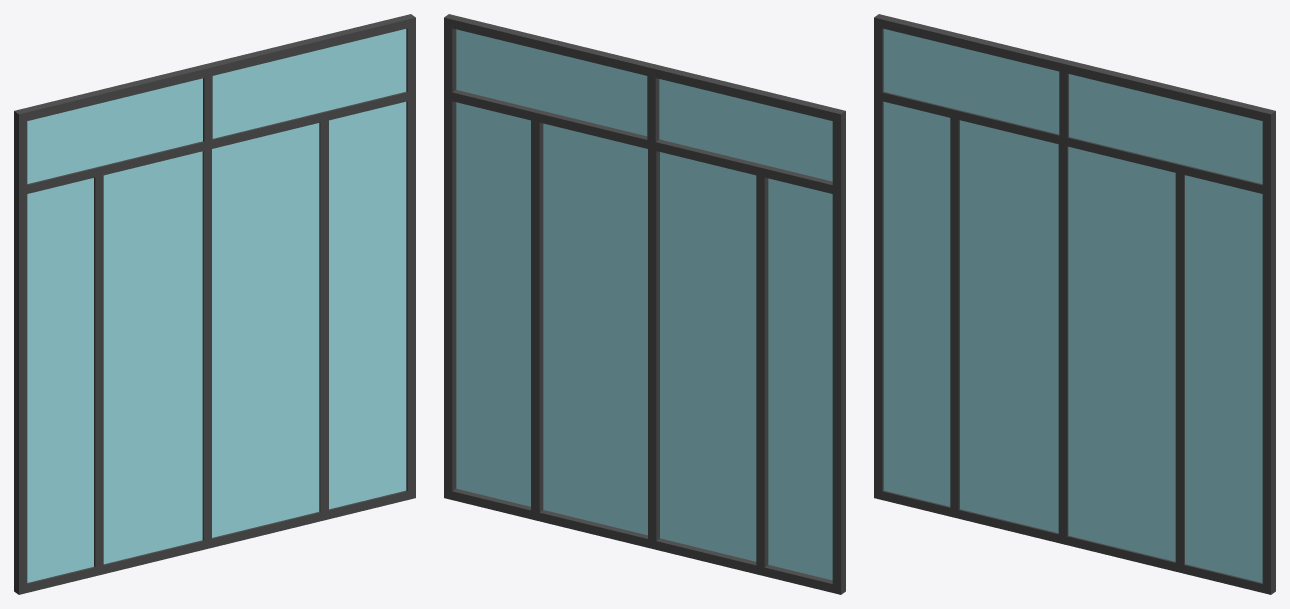
The model's file is ARC0110034.fbx.
3 renders of one model, left to right at view 1: azimuth 30°, elevation 25°; view 2: azimuth 150°, elevation 25°; view 3: azimuth 330°, elevation 25°, orthographic.
Visible parts, largest first — view 1: smARC0110034; view 2: smARC0110034; view 3: smARC0110034.
Boxes of the visible parts, <box> form: smARC0110034: <box>14,14,415,594</box>; smARC0110034: <box>444,14,845,594</box>; smARC0110034: <box>874,14,1275,594</box>.
Size of the model in its own units: 236 by 273 by 5.
Materials: 1 (1 with a texture image).
